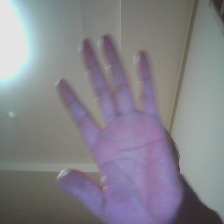hand: (57, 33, 186, 223)
